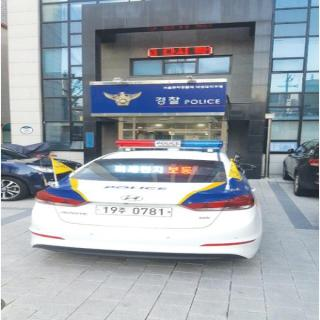Police_car: (29, 140, 262, 262)
